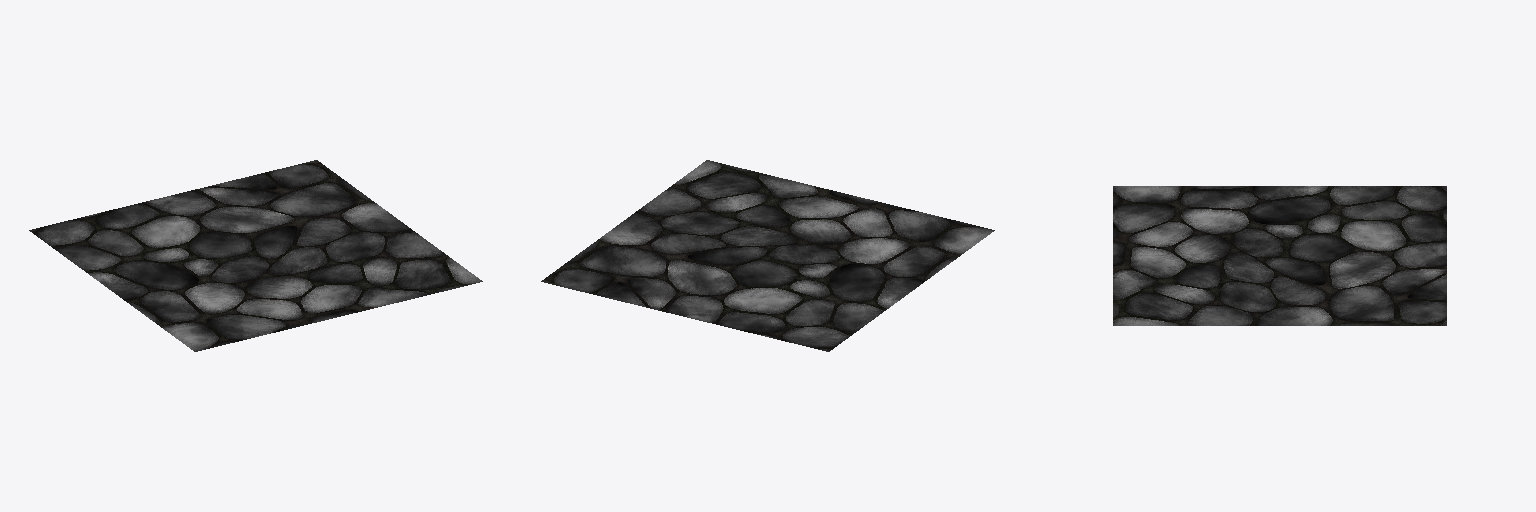
3 renders of one model, left to right at view 1: azimuth 30°, elevation 25°; view 2: azimuth 150°, elevation 25°; view 3: azimuth 270°, elevation 25°, orthographic.
Parts seen in each view (by area): view 1: Plane; view 2: Plane; view 3: Plane.
Part boxes in pixels (left/top/right/bottom): Plane: left=29, top=160, right=482, bottom=351; Plane: left=541, top=160, right=994, bottom=351; Plane: left=1113, top=186, right=1446, bottom=325.
Size of the model in its own units: 2 by 0 by 2.
Materials: 1 (1 with a texture image).